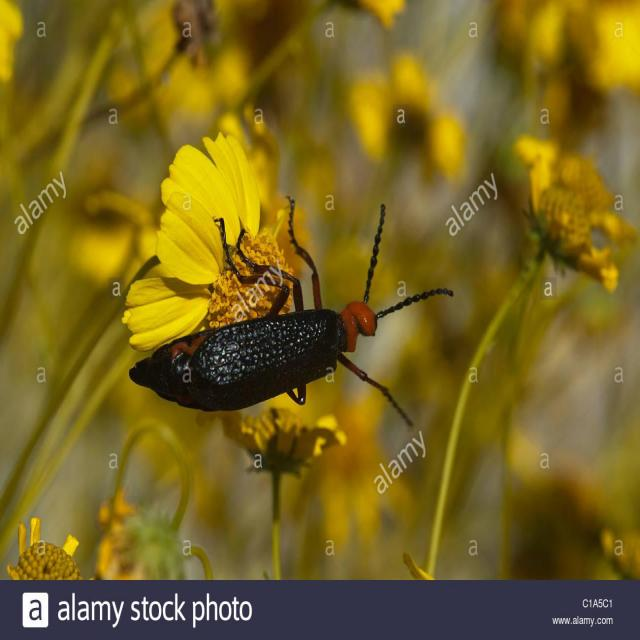BlisterBeetle-Adult-: (100, 193, 452, 437)
